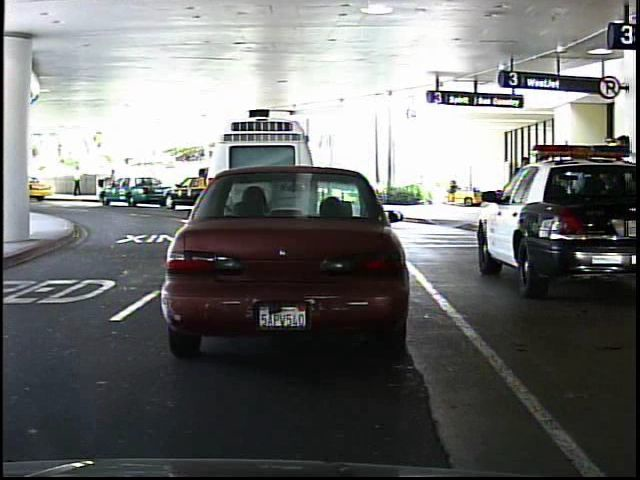person: (604, 130, 639, 255), (508, 151, 536, 221), (104, 166, 122, 202), (72, 162, 86, 198)
